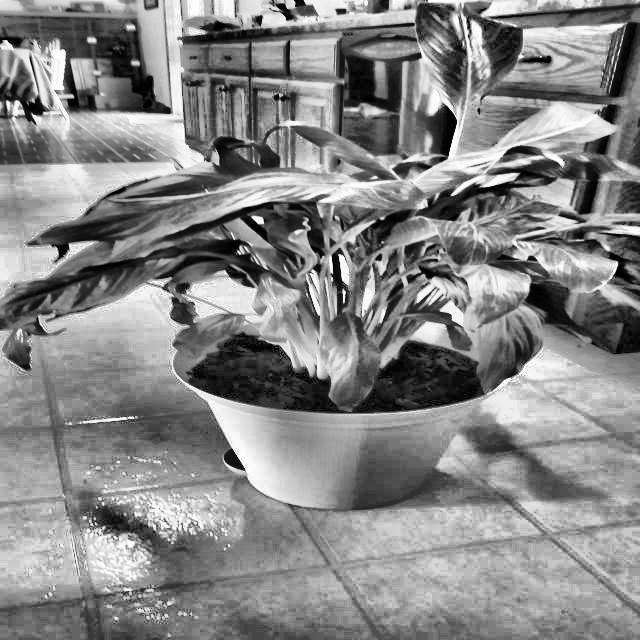plants: (0, 116, 640, 526)
